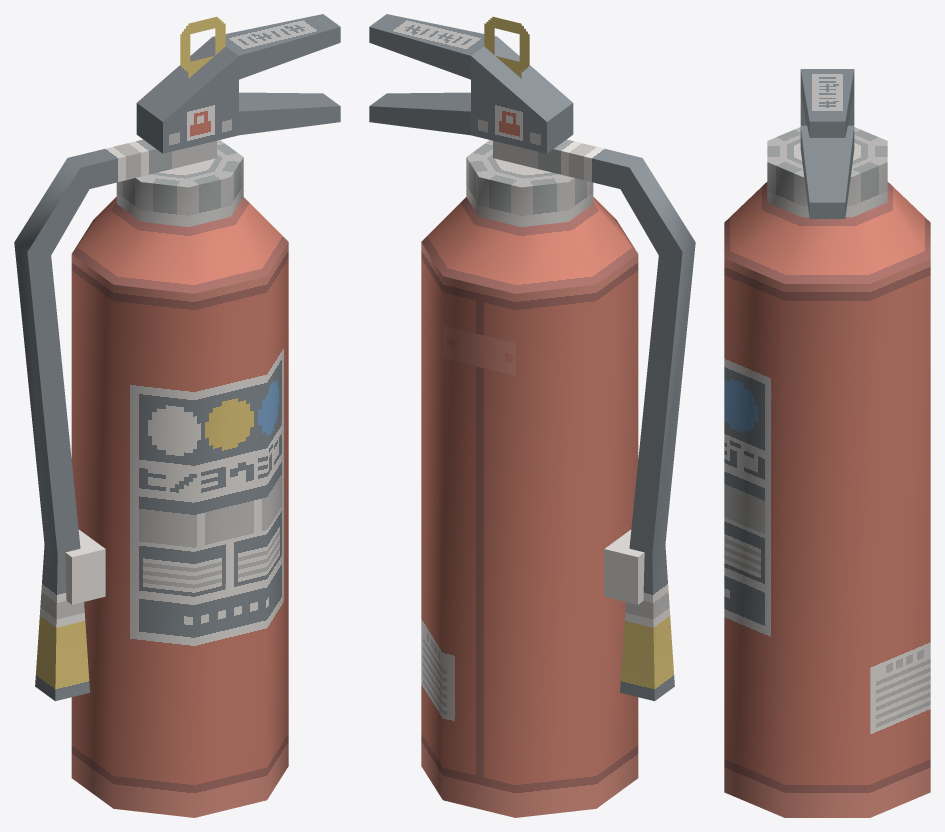
File: 0517_Fire_Extinguisher.glb
3 renders of one model, left to right at view 1: azimuth 30°, elevation 25°; view 2: azimuth 150°, elevation 25°; view 3: azimuth 270°, elevation 25°, orthographic.
Visible parts, largest first — view 1: part_0; view 2: part_0; view 3: part_0.
Part boxes in pixels (bbox=[...]): part_0: bbox=[14, 14, 340, 817]; part_0: bbox=[369, 14, 695, 817]; part_0: bbox=[724, 69, 930, 817].
Size of the model in its own units: 0.205 by 0.47 by 0.1155.
1 material, 1 textured.
